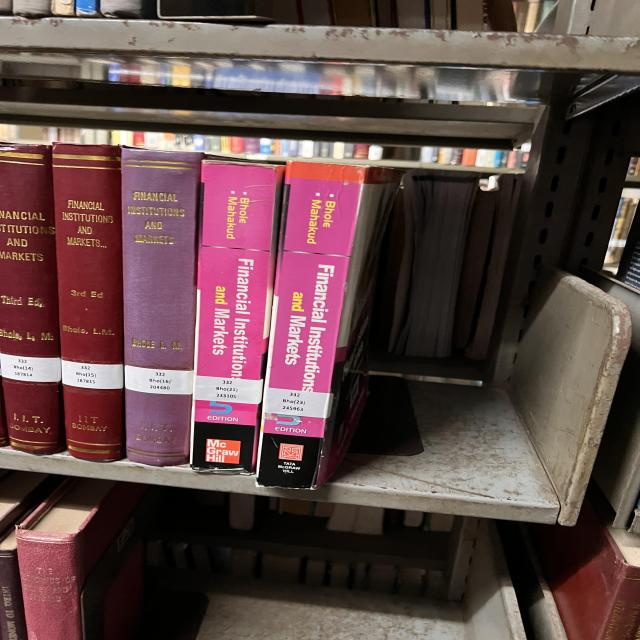Book: (257, 162, 400, 489), (190, 160, 285, 474), (122, 148, 203, 466), (52, 142, 125, 461), (0, 144, 65, 454)
Label: (263, 388, 332, 419), (125, 365, 193, 395), (193, 375, 263, 404), (62, 360, 123, 389), (0, 354, 62, 382)
